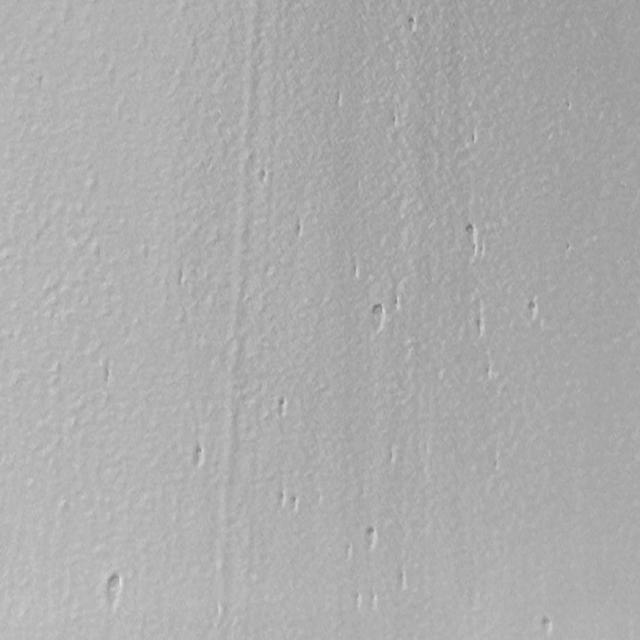pin holes: (103, 570, 126, 608), (459, 222, 481, 256), (366, 303, 386, 333), (360, 526, 380, 554), (524, 297, 544, 325), (536, 614, 558, 638), (98, 357, 116, 385), (188, 444, 208, 469), (393, 566, 411, 592), (273, 393, 290, 419), (472, 312, 488, 339), (273, 489, 290, 512), (255, 166, 272, 188), (349, 260, 365, 282), (350, 589, 364, 611), (289, 494, 302, 515), (341, 542, 354, 563), (368, 591, 381, 611), (405, 15, 419, 32), (294, 223, 306, 241), (390, 113, 402, 130), (336, 88, 344, 113), (388, 444, 396, 464), (485, 365, 492, 380), (566, 100, 573, 112), (566, 242, 573, 254), (471, 133, 478, 144)
